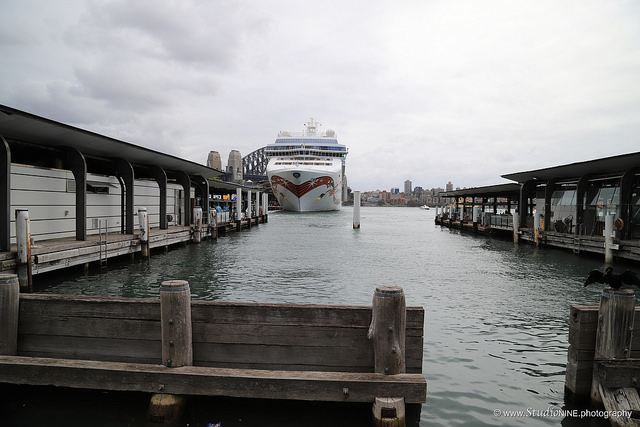cruise_ship: (267, 119, 343, 214)
